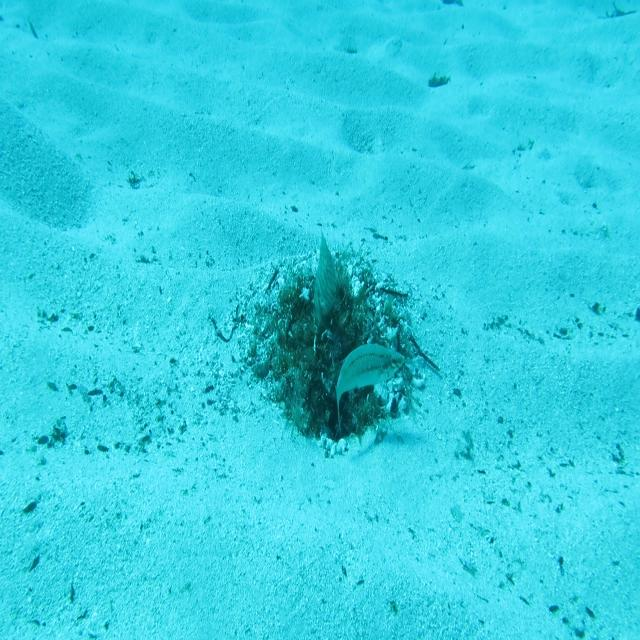NIP_CORE: (310, 227, 344, 327)
core_nest: (302, 288, 353, 352)
female: (333, 341, 408, 433)
nest: (226, 250, 431, 484)
vegetation: (426, 73, 454, 91)
